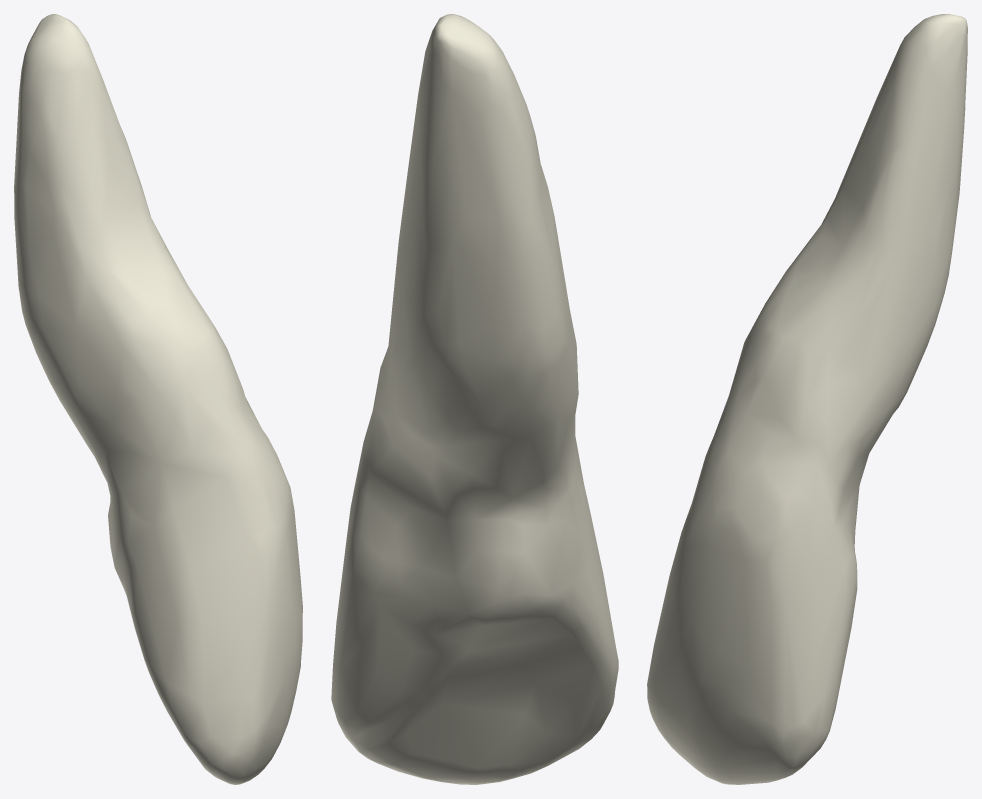
File: Left upper lateral incisor tooth.fbx
3 views of the same model, side by side, from view 1: azimuth 30°, elevation 25°; view 2: azimuth 150°, elevation 25°; view 3: azimuth 270°, elevation 25° (orthographic). The views are drawn at different scales.
Parts seen in each view (by area): view 1: Left upper lateral incisor tooth; view 2: Left upper lateral incisor tooth; view 3: Left upper lateral incisor tooth.
Boxes of the visible parts, x1,y1,x2,y2 form: Left upper lateral incisor tooth: (14,14,302,784); Left upper lateral incisor tooth: (331,14,618,784); Left upper lateral incisor tooth: (647,14,967,784).
Size of the model in its own units: 1.28 by 3.86 by 1.55.
